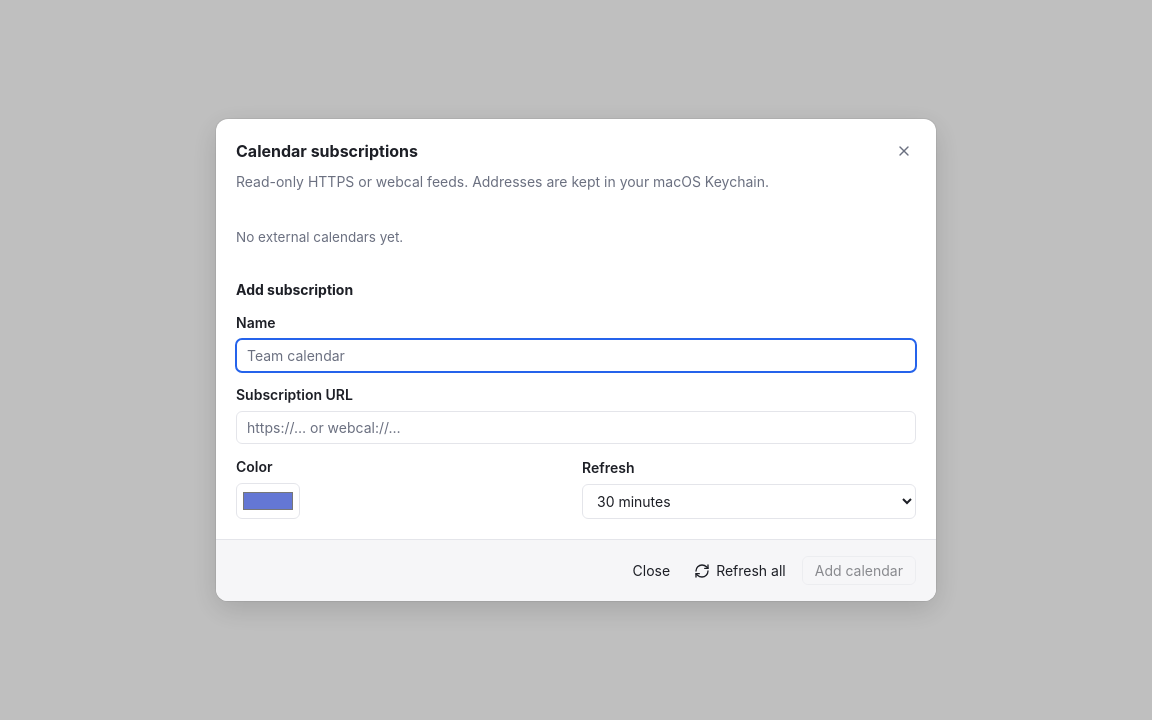
Test: subscription failures preserve fields and serialize pending decisions
The width and height of the screenshot is (1152, 720).
Type "Team" into the field labelled "Name" at (576, 356), box [236,339,916,372]
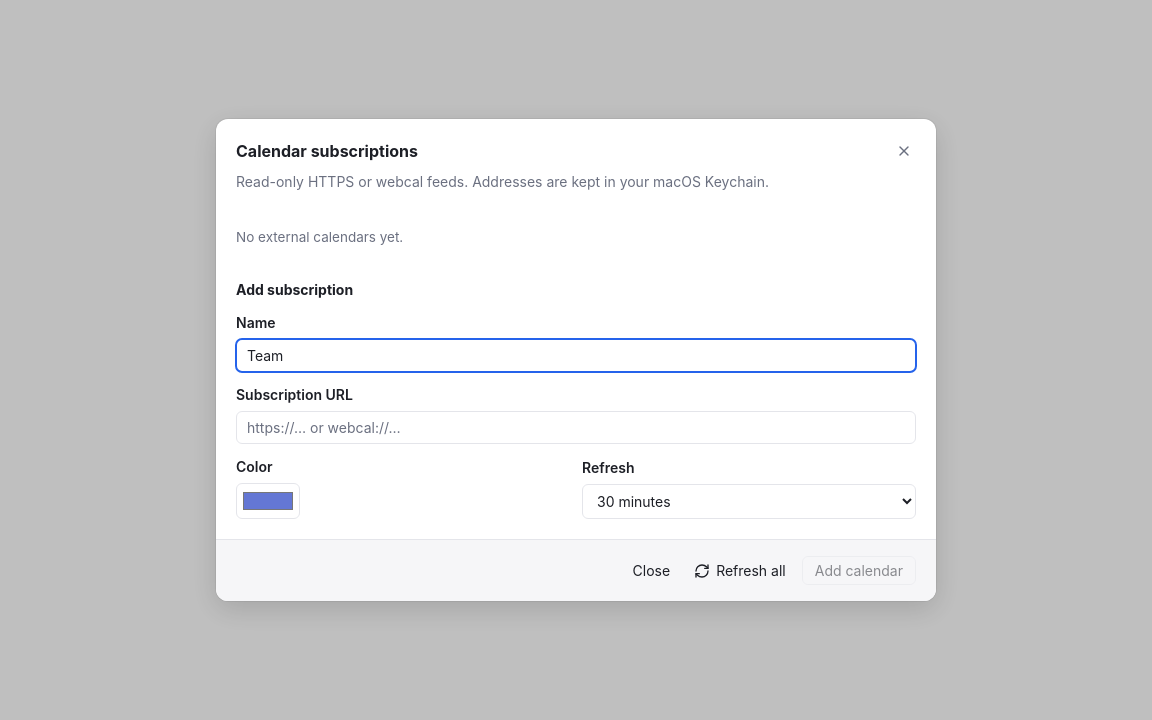
Type "https://example.com/calendar.ics" into the field labelled "Subscription URL" at (576, 428), box [236,411,916,444]
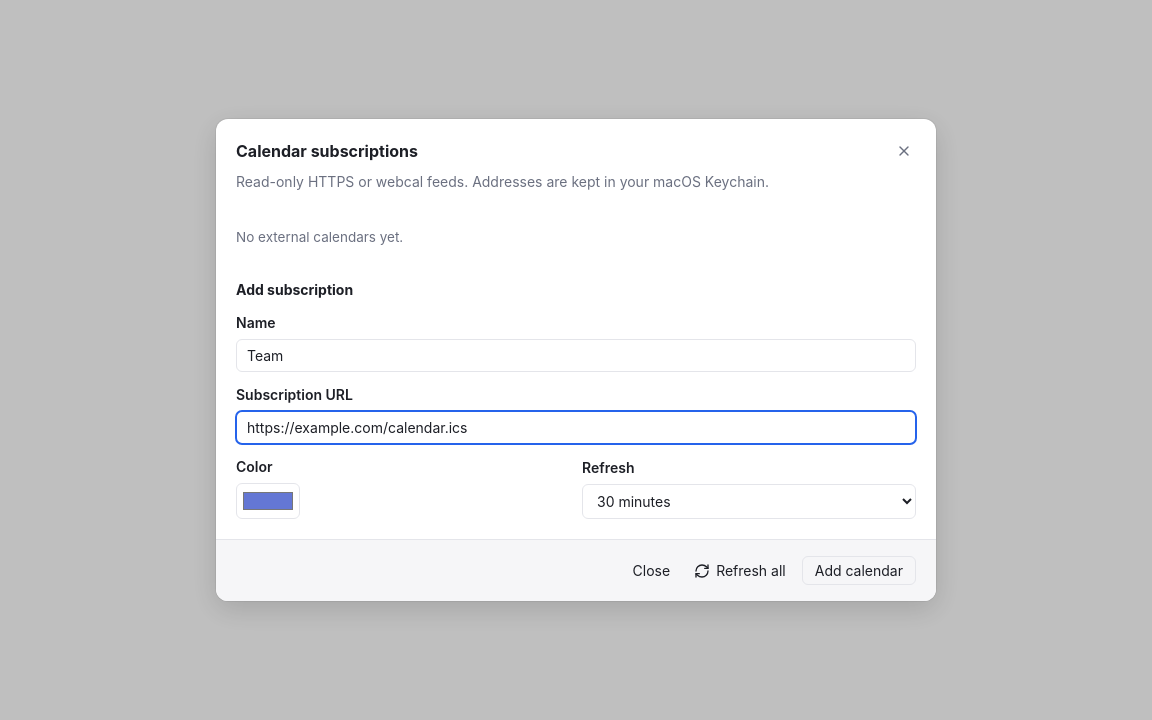
Click the button "Add calendar" at (859, 571), box [802,556,916,585]
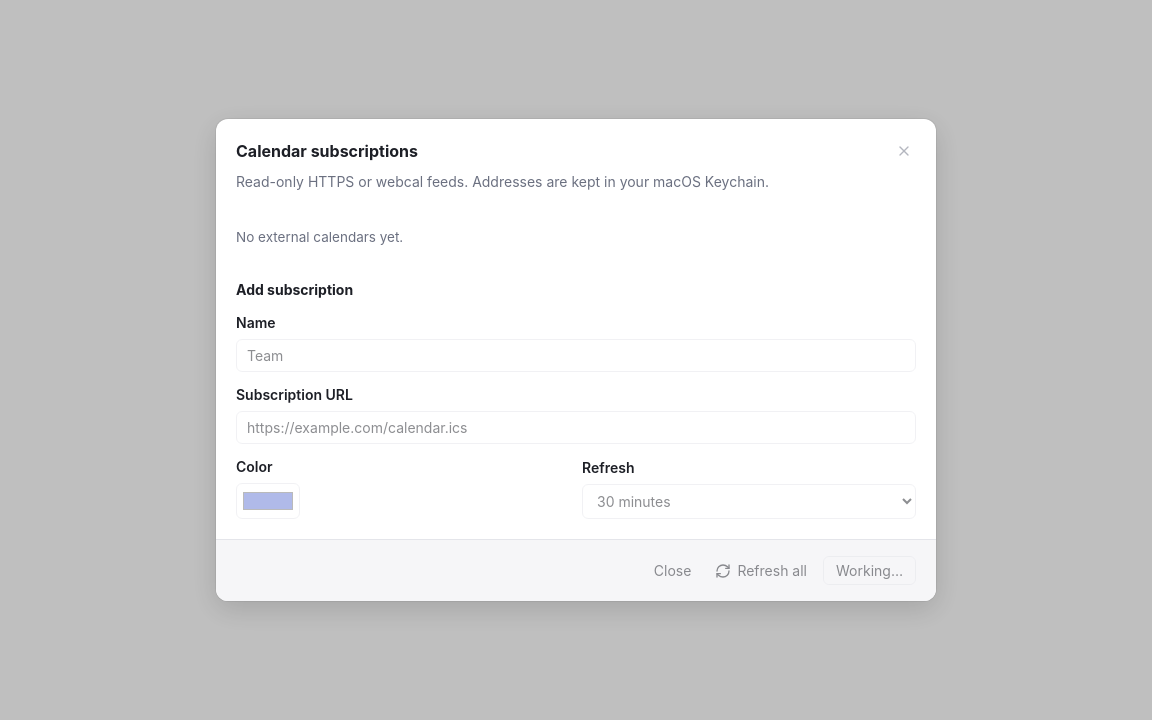
Check: the field labelled "Name" is disabled, box [236,339,916,372]
Click the button "Working…" at (870, 571), box [823,556,916,585]
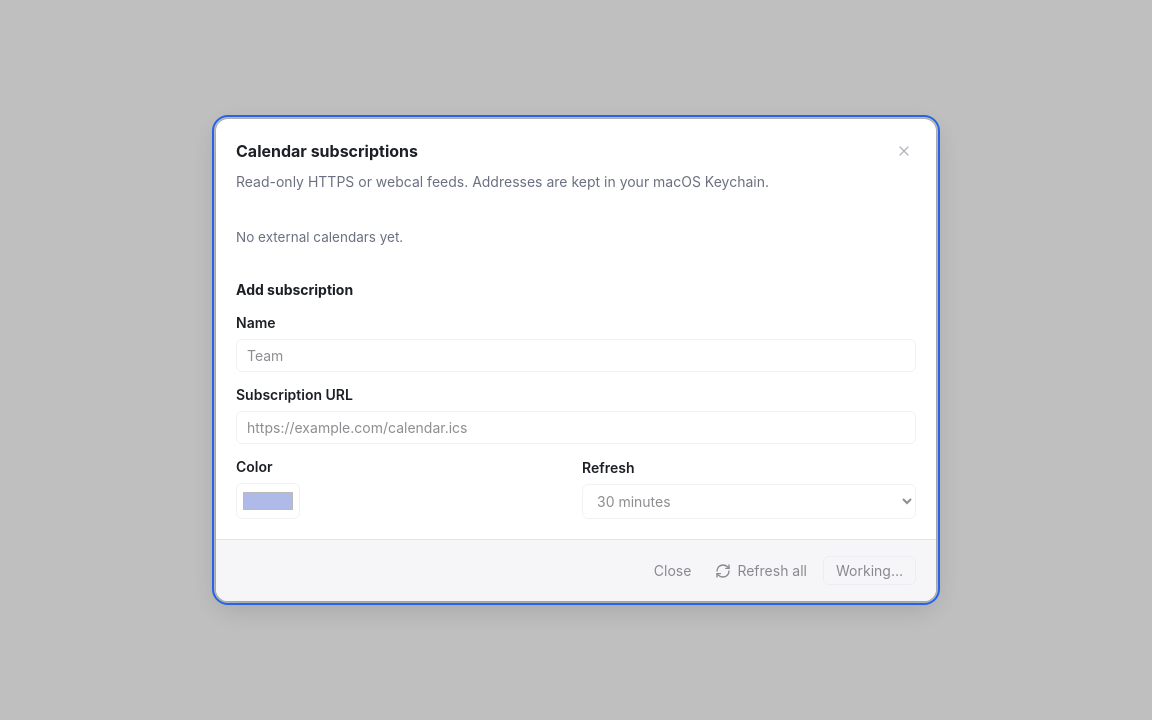
Press Escape in the dialog, box [216,119,936,601]
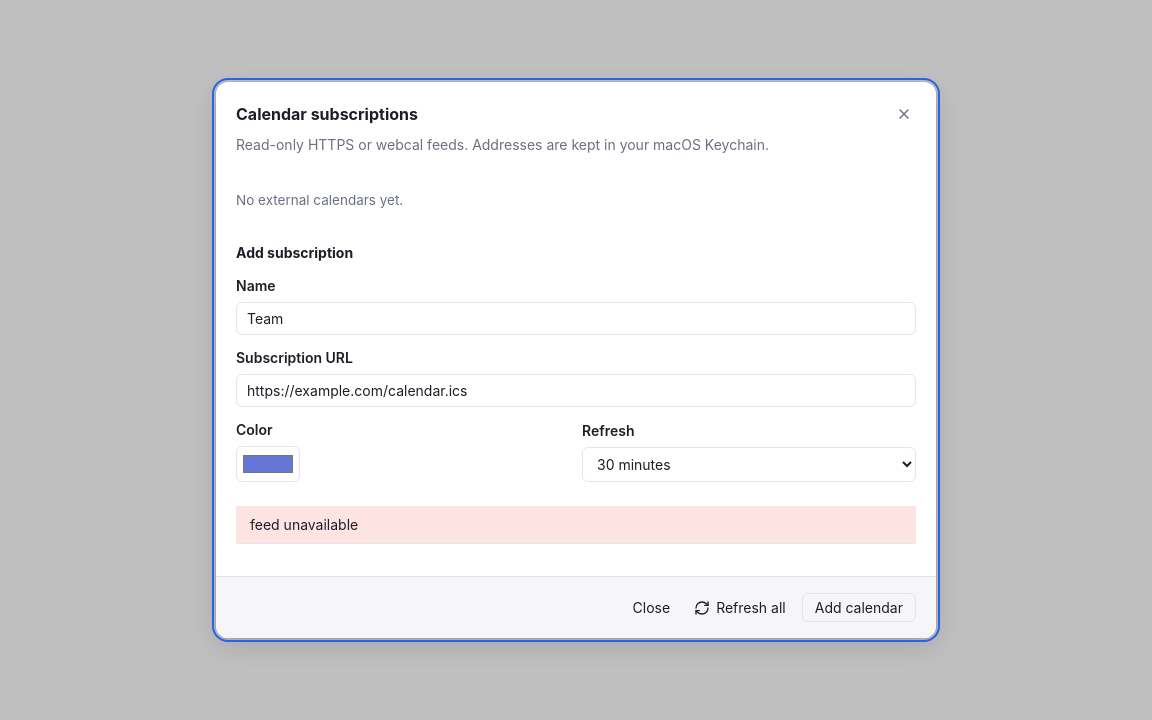
Check: the text "feed unavailable" is shown, box [236,506,916,544]
